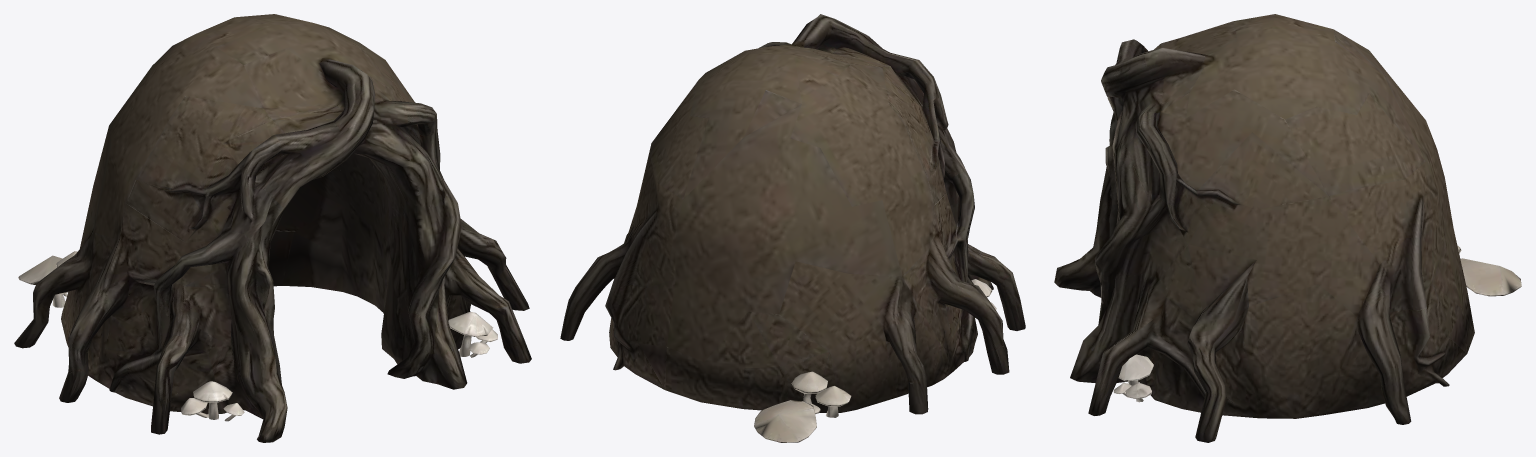
Rendered from darkway.glb.
3 views of the same model, side by side, from view 1: azimuth 30°, elevation 25°; view 2: azimuth 150°, elevation 25°; view 3: azimuth 270°, elevation 25° (orthographic). The views are drawn at different scales.
Size of the model in its own units: 1.52 by 1 by 1.39.
Materials: 1 (1 with a texture image).
